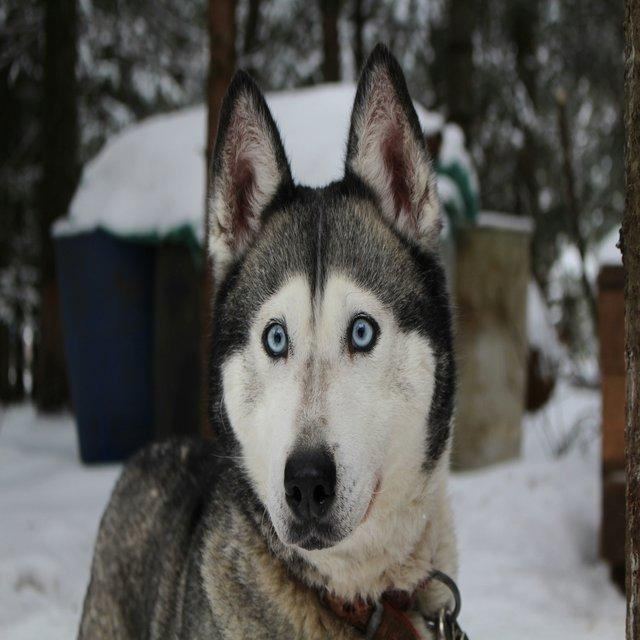husky: (75, 41, 466, 638)
